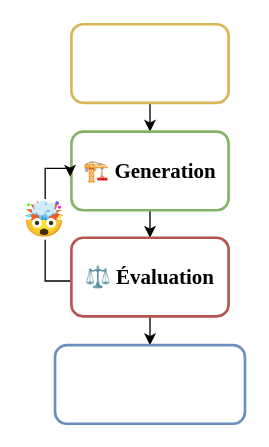
Some shapes in this 269 by 447 pixel diagram are drawn without their labels. Here are the shapes that lost their labels. From the top down, the centre of each, then its label:
point 149,62: 🤔 Exploration
point 149,383: 📢 Communication
